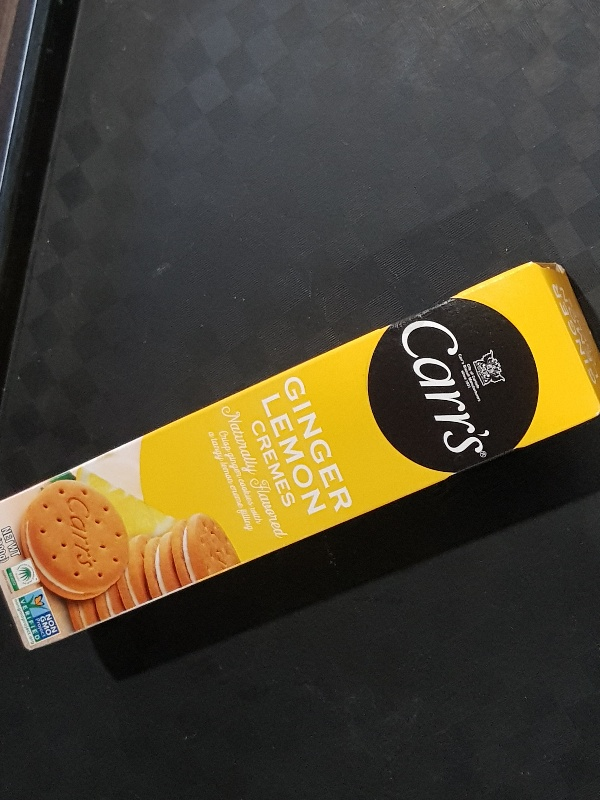Carr's Ginger Lemon Cremes: (2, 257, 600, 654)
